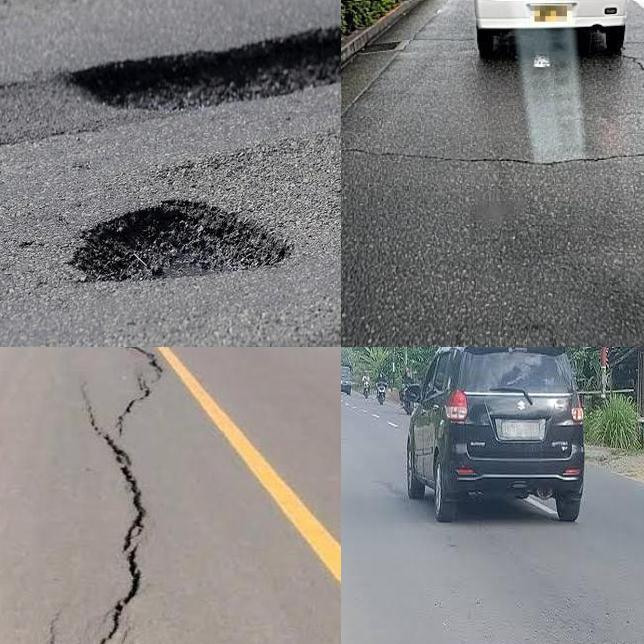Lubang: (56, 21, 341, 125), (76, 204, 289, 288)
Melintang: (341, 130, 644, 181)
Memanjang: (88, 347, 172, 644)
